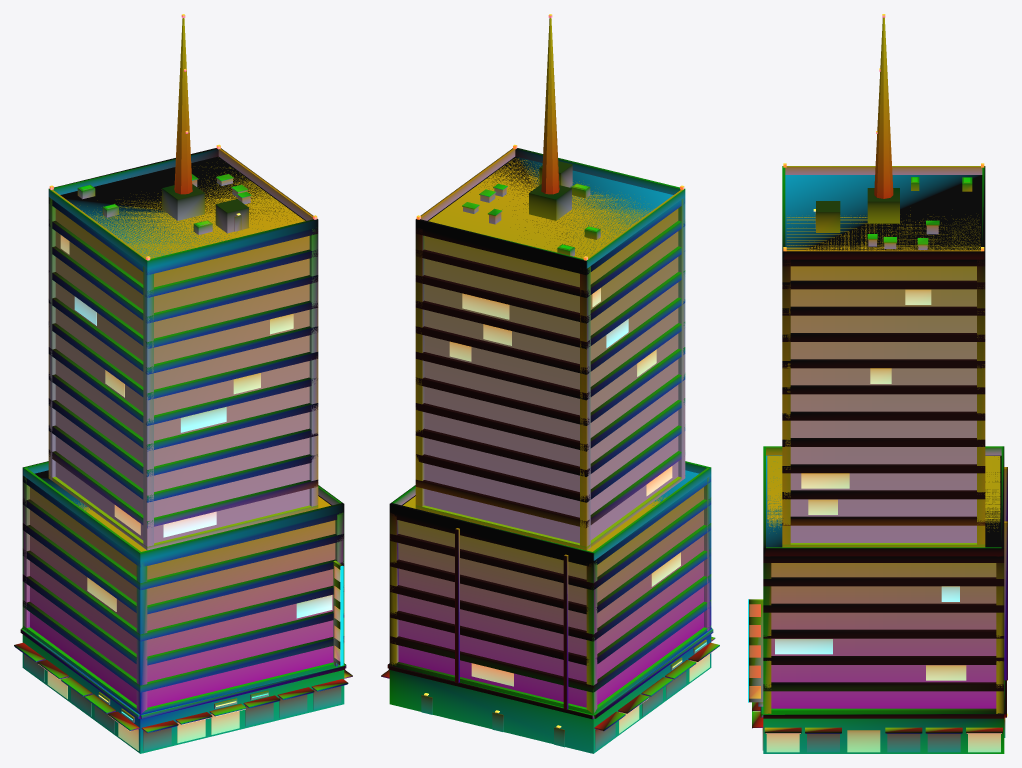
The model's file is Tower_Pad_V2.fbx.
The picture shows the model from 3 angles, left to right: view 1: azimuth 30°, elevation 25°; view 2: azimuth 150°, elevation 25°; view 3: azimuth 270°, elevation 25°; orthographic projection. The views are drawn at different scales.
Visible parts, largest first — view 1: Tower_Pad_V2_LOD0; view 2: Tower_Pad_V2_LOD0; view 3: Tower_Pad_V2_LOD0.
Boxes of the visible parts, x1,y1,x2,y2 form: Tower_Pad_V2_LOD0: (14,14,352,753); Tower_Pad_V2_LOD0: (381,14,719,753); Tower_Pad_V2_LOD0: (748,14,1007,753).
Size of what is drawn, in the model's own units: 32.8 by 94.43 by 32.31.
